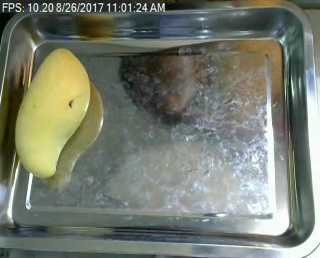Mango: (16, 48, 89, 181)
